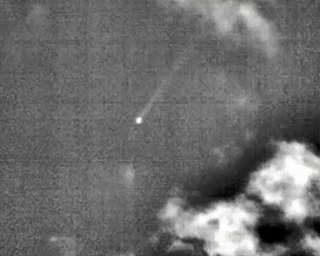AIRPLANE: (130, 54, 196, 128)
